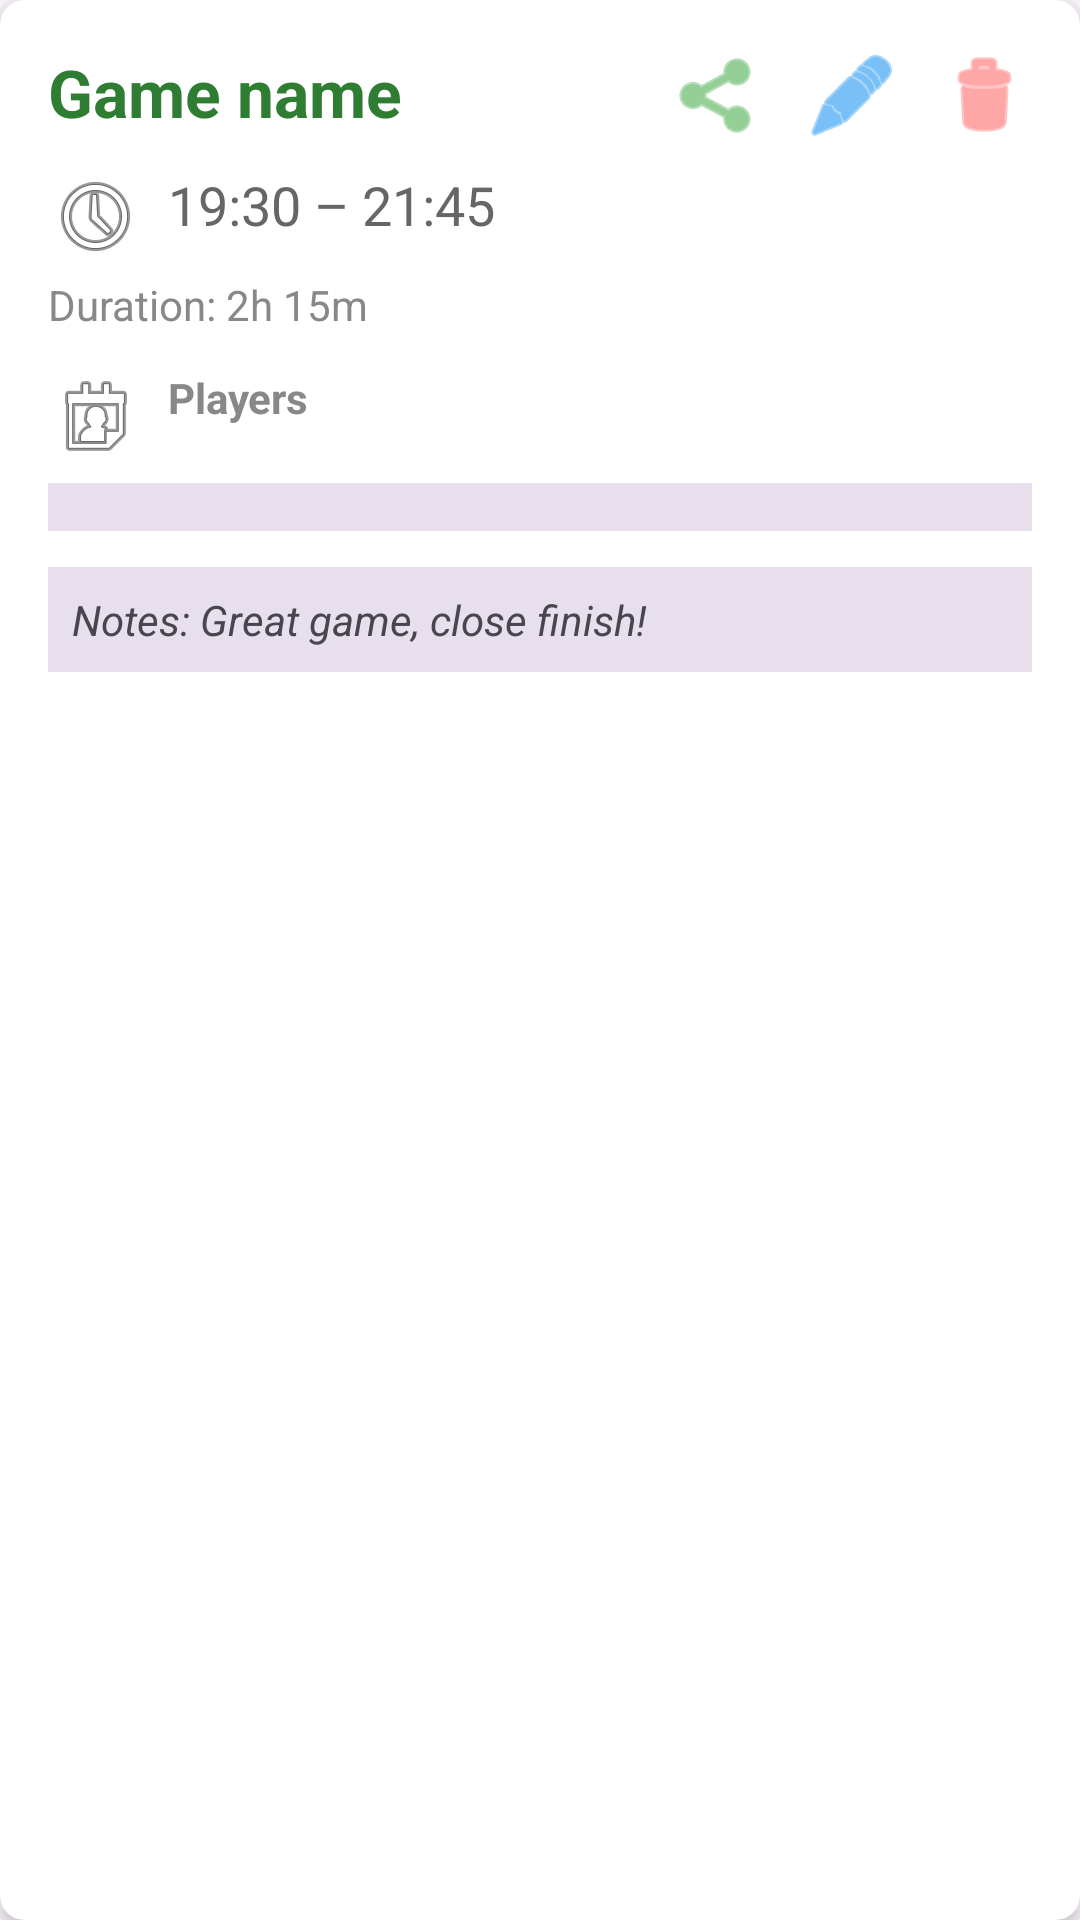

Icon click points for this 1080 x 1920 phone screenshot, format (x=x, y=y):
Delete session: (x=984, y=94)
Edit session: (x=851, y=95)
Share session: (x=715, y=95)
